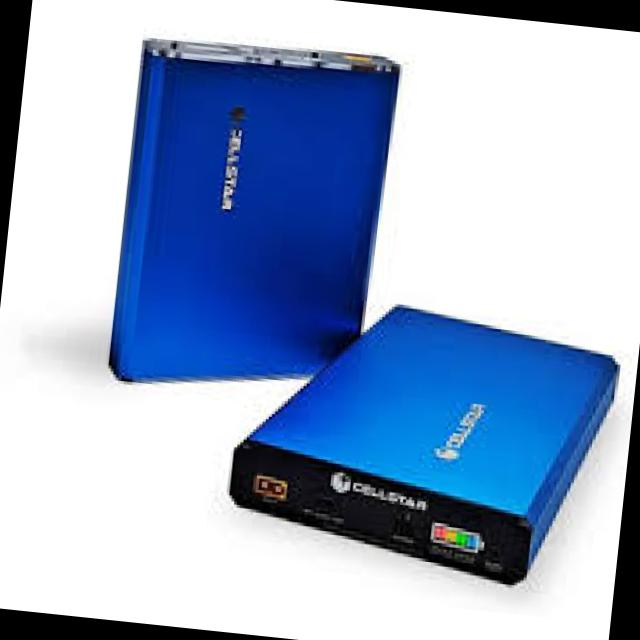power_bank: (219, 282, 623, 608), (109, 28, 402, 411)
